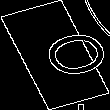O_W: (12, 26, 98, 84)
